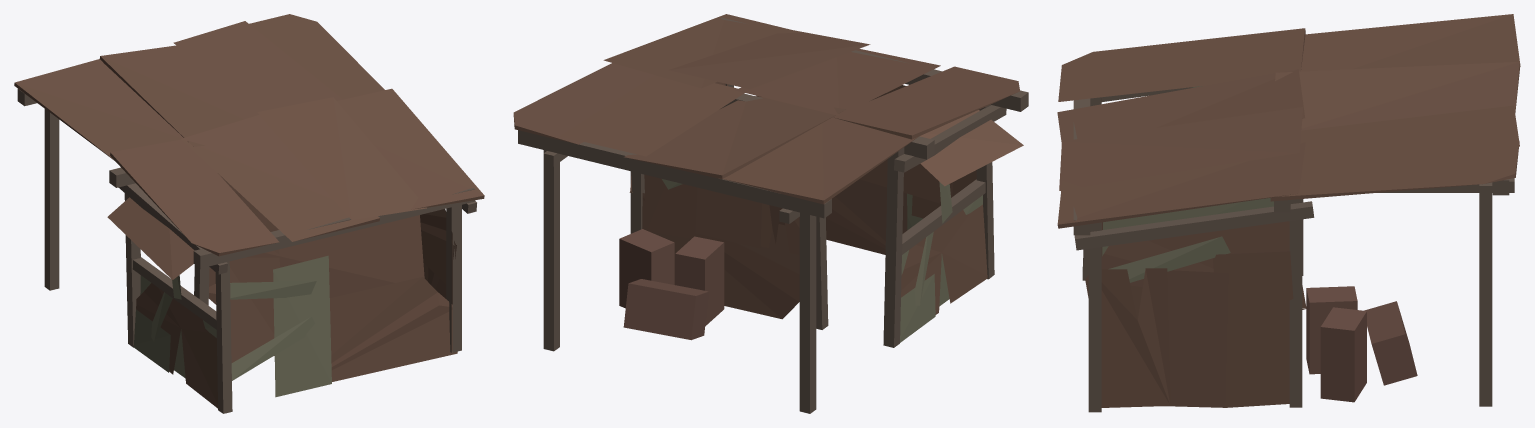
Rendered from river-shack.zfix-v14.lod2.glb.
The picture shows the model from 3 angles, left to right: view 1: azimuth 30°, elevation 25°; view 2: azimuth 150°, elevation 25°; view 3: azimuth 270°, elevation 25°; orthographic projection. The views are drawn at different scales.
Visible parts, largest first — view 1: pCube1_lambert2_0; view 2: pCube1_lambert2_0; view 3: pCube1_lambert2_0.
Part boxes in pixels (x1,y1,x2,y2): pCube1_lambert2_0: [14, 14, 484, 413]; pCube1_lambert2_0: [513, 14, 1028, 413]; pCube1_lambert2_0: [1057, 14, 1520, 412].
Size of the model in its own units: 4.46 by 2.96 by 5.
